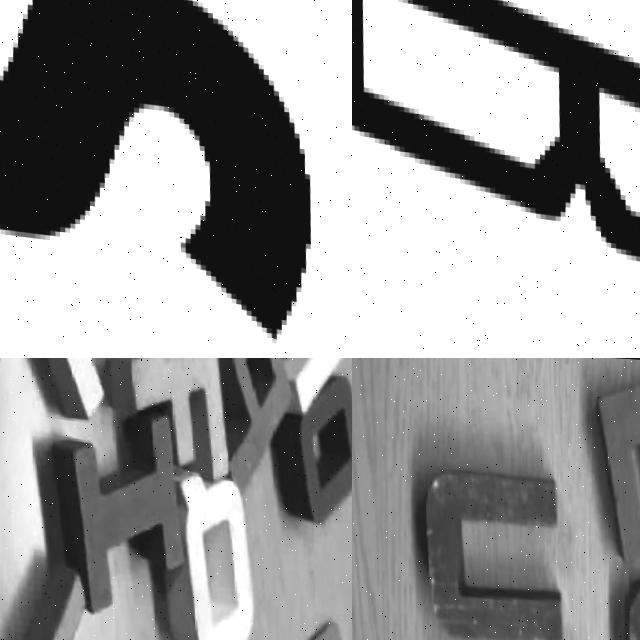B: (352, 0, 640, 268)
E: (571, 358, 640, 562)
F: (109, 358, 233, 495)
H: (241, 358, 352, 407)
I: (25, 397, 185, 619)
O: (259, 376, 352, 523)
Q: (136, 447, 258, 640)
S: (0, 0, 343, 343)
U: (390, 429, 576, 640)
Y: (0, 557, 105, 640)
Z: (0, 358, 172, 427)
